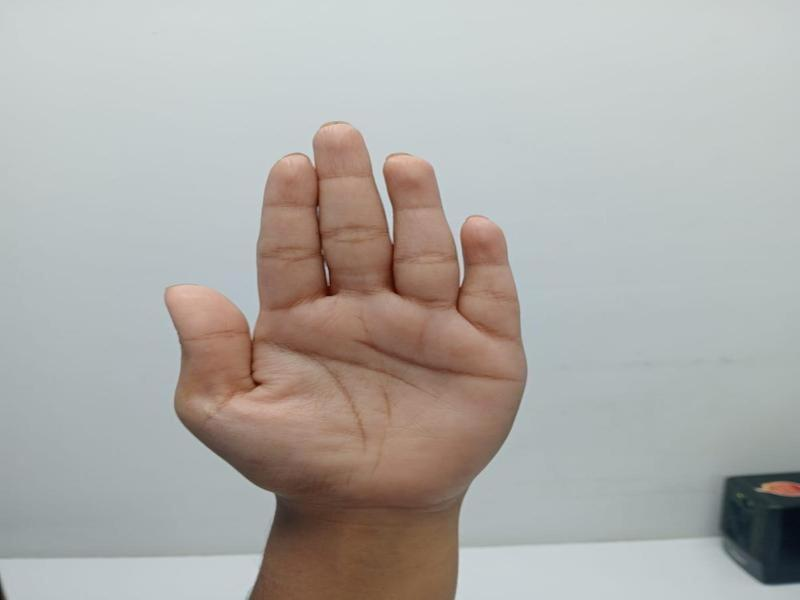REVERSE: (149, 105, 537, 600)
